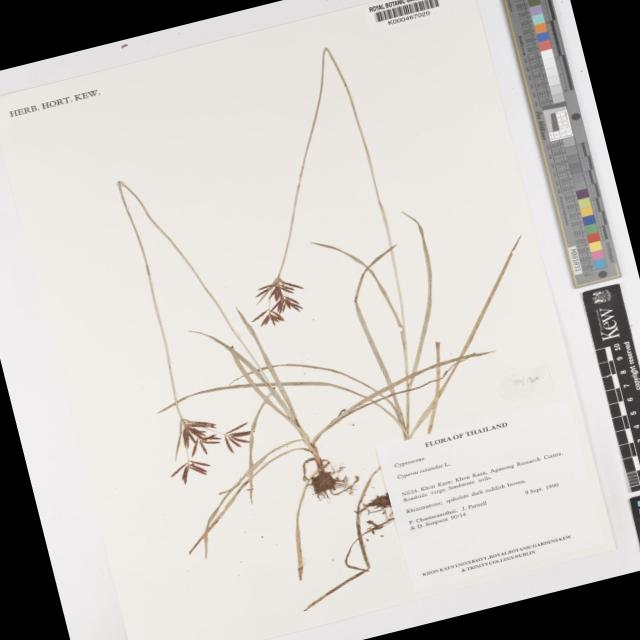cyperus: (143, 382, 264, 496), (236, 264, 314, 340)
